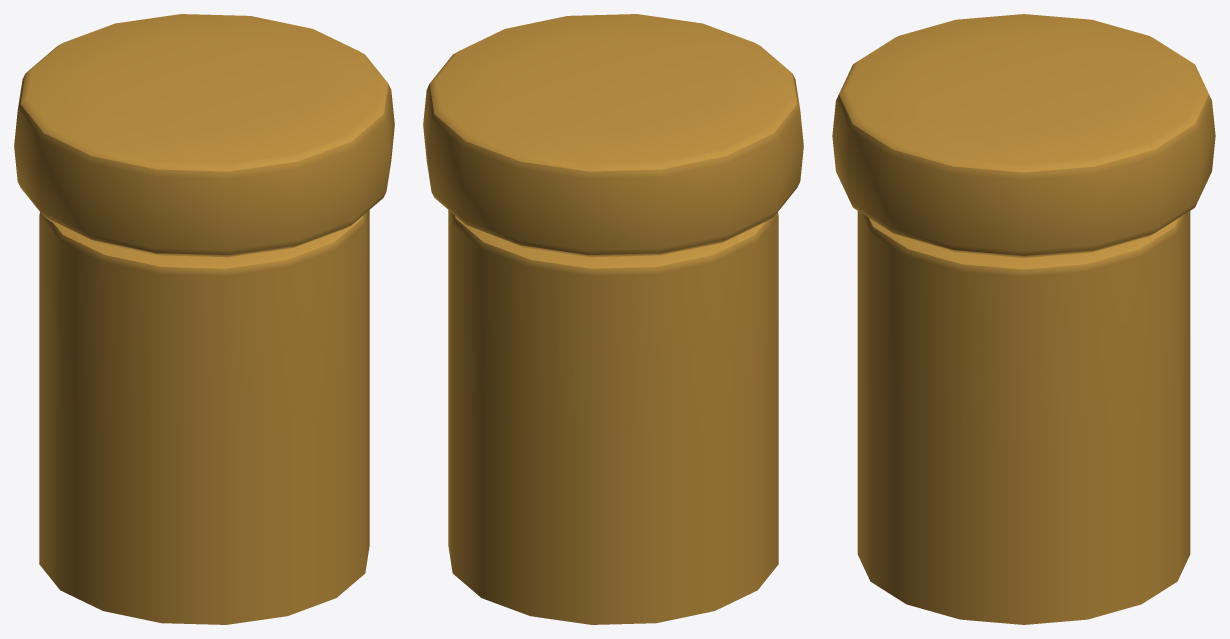
The model's file is GB_pedestal.fbx.
The picture shows the model from 3 angles, left to right: view 1: azimuth 30°, elevation 25°; view 2: azimuth 150°, elevation 25°; view 3: azimuth 270°, elevation 25°; orthographic projection.
Visible parts, largest first — view 1: pedestal; view 2: pedestal; view 3: pedestal.
Part boxes in pixels (x1,y1,x2,y2): pedestal: (14, 14, 394, 624); pedestal: (423, 14, 803, 624); pedestal: (832, 14, 1215, 624).
Bounding box in the file's own units: 78.41 × 107 × 78.41.
